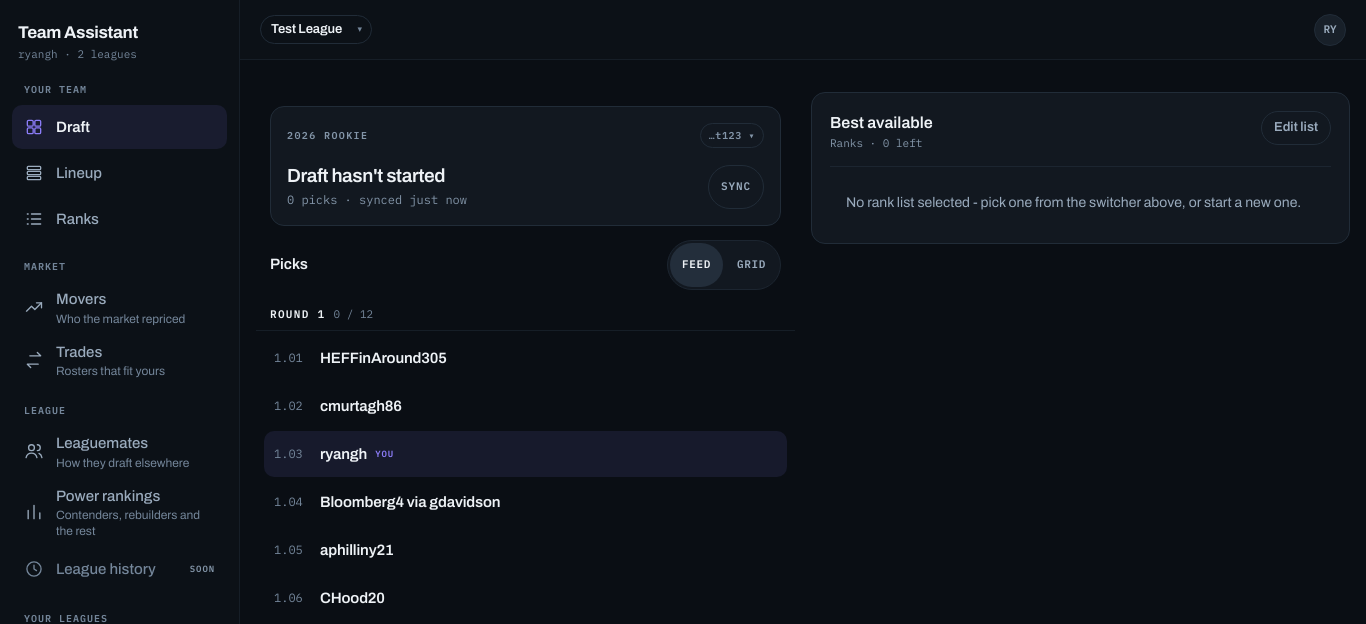
Test case: App › says the player database failed rather than letting a paste blame the file
Click the button "Ranks": {"x": 120, "y": 219} [12,197,227,241]
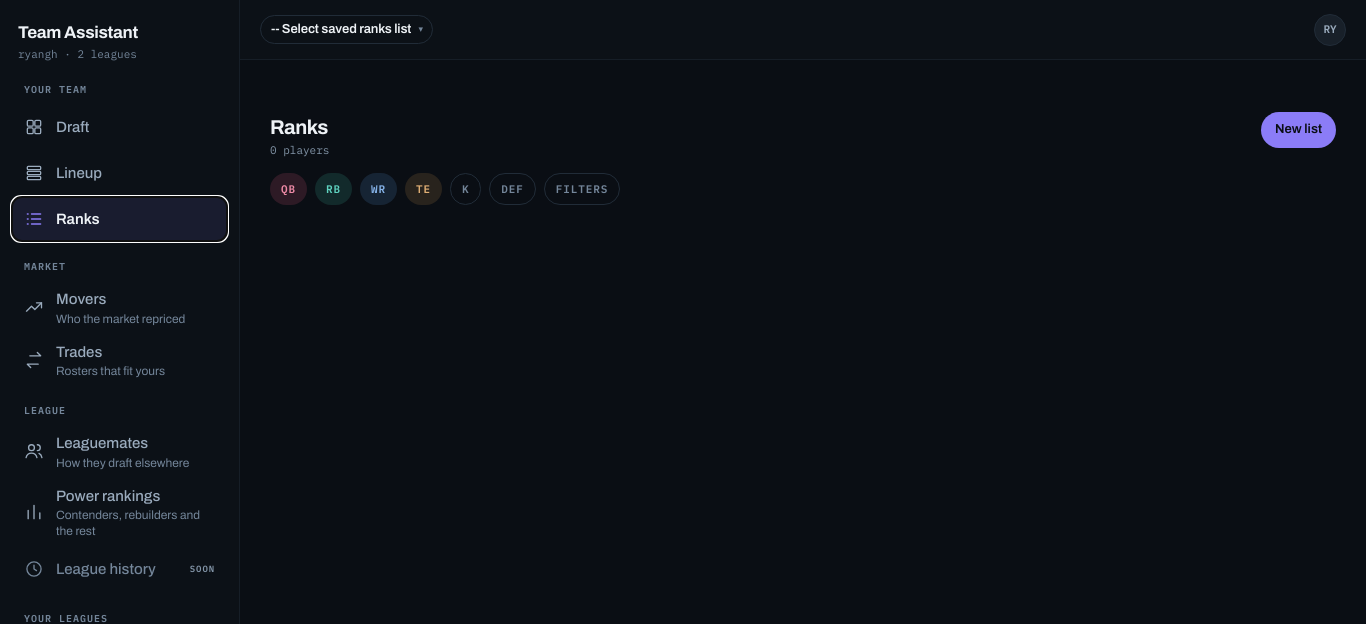
Click the button "New list": {"x": 1299, "y": 130} [1261,112,1336,148]
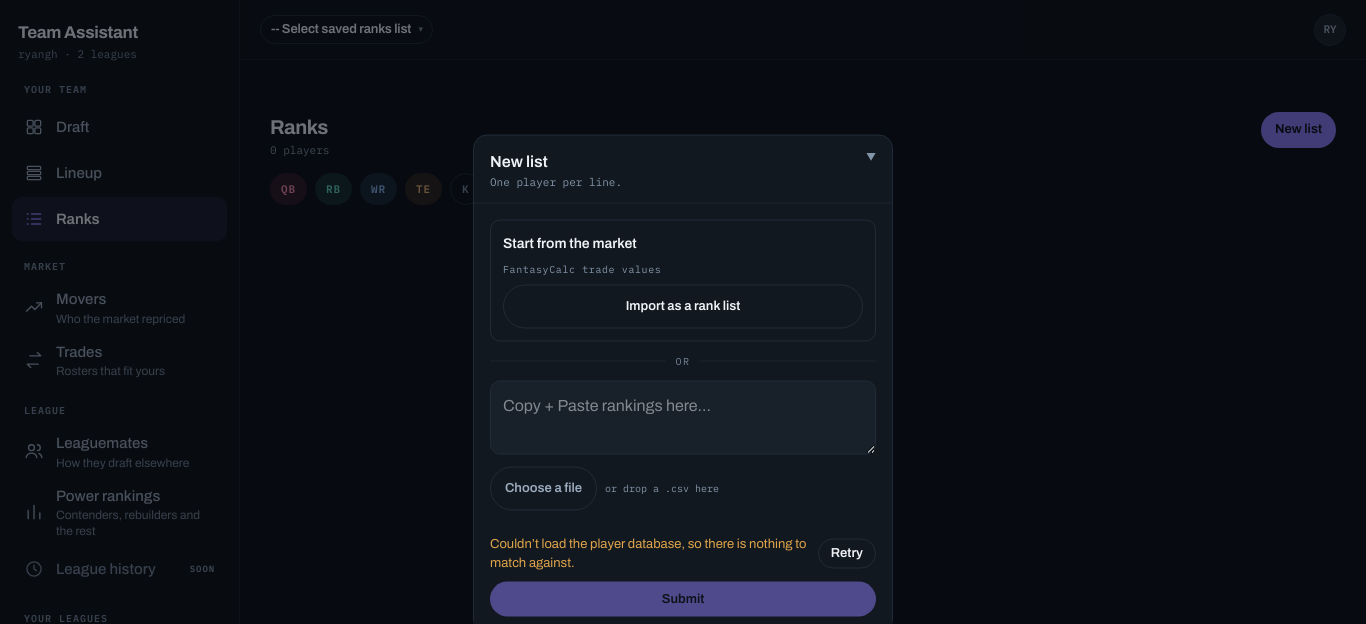
Expected: the button "Retry" is shown, [818,539,876,568]
